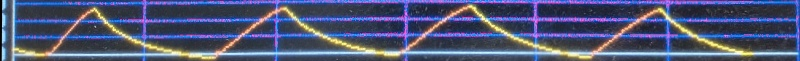normal_volume: (8, 0, 760, 61)
